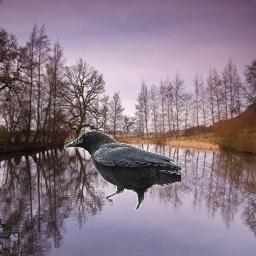Crow: (64, 131, 181, 209)
